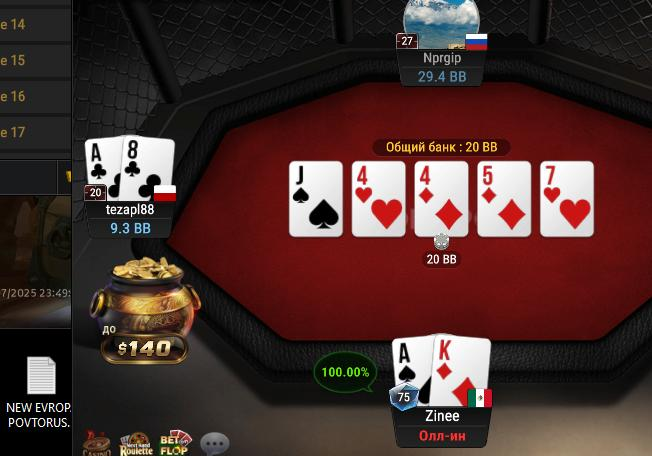4d: (415, 162, 467, 234)
4h: (353, 161, 404, 235)
5d: (478, 162, 529, 232)
7h: (541, 162, 593, 233)
8c: (122, 136, 172, 201)
Ac: (85, 136, 122, 201)
As: (390, 337, 432, 405)
Js: (289, 162, 341, 233)
Kd: (434, 334, 489, 406)
